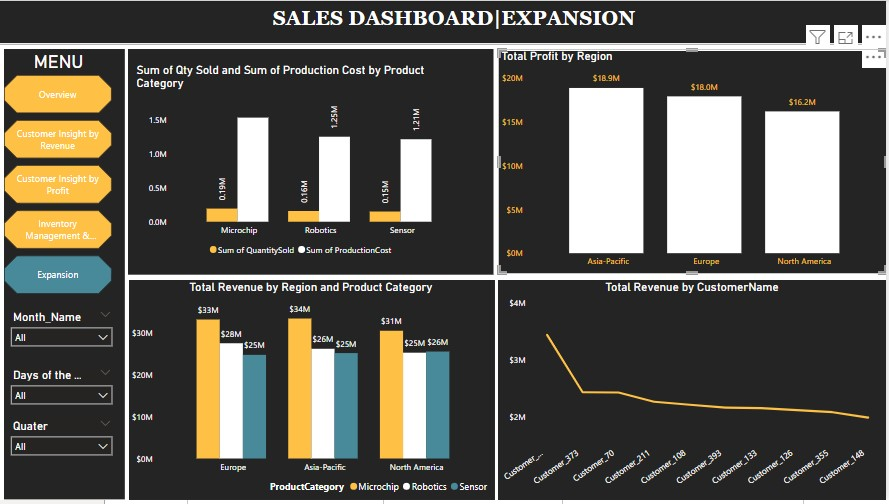

What the dashboard file says about the page in this screenshot:
{"tool":"powerbi","page":{"name":"Expansion","canvas":[1280,720],"ordinal":4},"visuals":[{"type":"shape","box":[720,403.2,558.7,316.8],"z":0},{"type":"shape","box":[188.6,403.2,527,316.8],"z":1000},{"type":"shape","box":[187.2,70.6,527,325.4],"z":2000},{"type":"shape","box":[720.6,73.9,559.4,320.8],"z":3000},{"type":"shape","box":[8.6,70.6,174.2,649.4],"z":4000},{"type":"shape","box":[0,0,1280,63.8],"z":5000},{"type":"textbox","title":"TECHTRONIX SALES DASHBOARD|EXPANSION","box":[33.1,8.6,1247,44.6],"z":6000},{"type":"pageNavigator","box":[8.6,108,155.5,318.2],"z":7000},{"type":"clusteredColumnChart","title":"Sum of Qty Sold and Sum of Production Cost by Product Category","fields":{"Category":["PRODUCT_DIM.ProductCategory"],"Y":["Sum(TECHTRONIC_FACT_TABLE.QuantitySold)","Sum(TECHTRONIC_FACT_TABLE.ProductionCost)"]},"box":[194.4,90.7,486.7,286.6],"z":8000},{"type":"clusteredColumnChart","title":"Total Revenue by Region and Product Category","fields":{"Y":["Calculations.Total Revenue"],"Category":["LOCATION_DIM.Region"],"Series":["PRODUCT_DIM.ProductCategory"]},"box":[187.2,403.2,527,316.8],"z":9000},{"type":"clusteredColumnChart","fields":{"Y":["Calculations.Total Profit"],"Category":["LOCATION_DIM.Region"]},"box":[720.6,70.6,559.4,324.2],"z":10000},{"type":"lineChart","fields":{"Y":["Calculations.Total Revenue"],"Category":["CUSTOMER_DIM.CustomerName"]},"box":[720,403.2,558.7,316.8],"z":11000},{"type":"slicer","fields":{"Values":["Calender_Dim.Month_Name"]},"box":[8.6,440.6,165.6,70.6],"z":12000},{"type":"slicer","fields":{"Values":["Calender_Dim.Days of the week"]},"box":[8.6,524.2,165.6,70.6],"z":13000},{"type":"slicer","fields":{"Values":["Calender_Dim.Quater"]},"box":[8.6,597.6,165.6,70.6],"z":14000},{"type":"textbox","title":"MENU","box":[0,73.4,174.2,34.6],"z":15000}]}

Visuals, with their boxes in screenshot pixels (x1, y1, x2, y2):
shape: Rect(493, 278, 876, 495)
shape: Rect(129, 278, 490, 495)
shape: Rect(128, 51, 489, 274)
shape: Rect(494, 53, 877, 273)
shape: Rect(6, 51, 125, 495)
shape: Rect(0, 2, 877, 46)
"TECHTRONIX SALES DASHBOARD|EXPANSION" textbox: Rect(23, 8, 877, 39)
pageNavigator: Rect(6, 76, 112, 294)
"Sum of Qty Sold and Sum of Production Cost by Product Category" clusteredColumnChart: Rect(133, 64, 467, 261)
"Total Revenue by Region and Product Category" clusteredColumnChart: Rect(128, 278, 489, 495)
clusteredColumnChart - Calculations.Total Profit x LOCATION_DIM.Region: Rect(494, 51, 877, 273)
lineChart - Calculations.Total Revenue x CUSTOMER_DIM.CustomerName: Rect(493, 278, 876, 495)
slicer - Calender_Dim.Month_Name: Rect(6, 304, 119, 352)
slicer - Calender_Dim.Days of the week: Rect(6, 361, 119, 410)
slicer - Calender_Dim.Quater: Rect(6, 412, 119, 460)
"MENU" textbox: Rect(0, 53, 119, 76)
